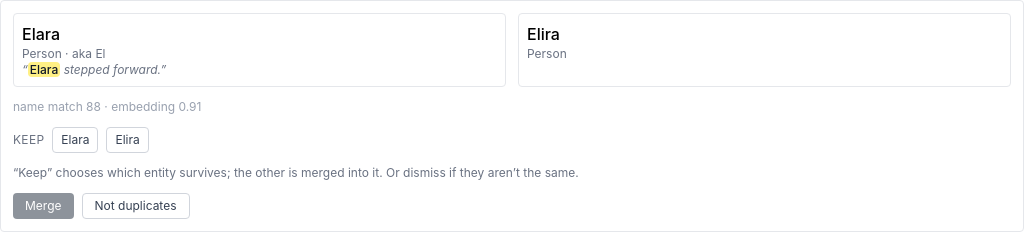
it: DuplicatePairCard › gates the merge behind an explicit survivor pick
Expected: the button with test id "duplicate-merge-confirm" is disabled, top-left (13, 193), bottom-right (74, 219)
Step 1. Click the button with test id "duplicate-keep-a" → (75, 140), box top-left (52, 127), bottom-right (98, 153)
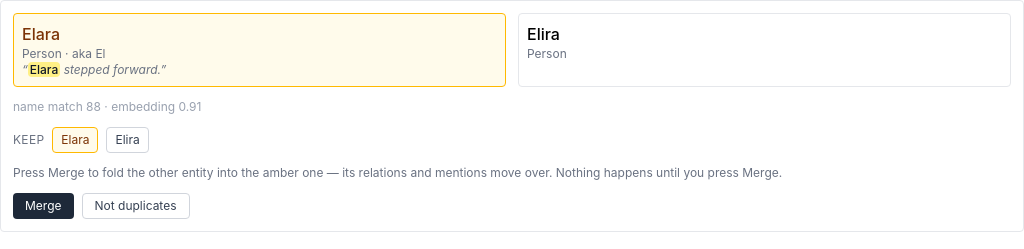
Now the button with test id "duplicate-merge-confirm" is enabled, box top-left (13, 193), bottom-right (74, 219)
